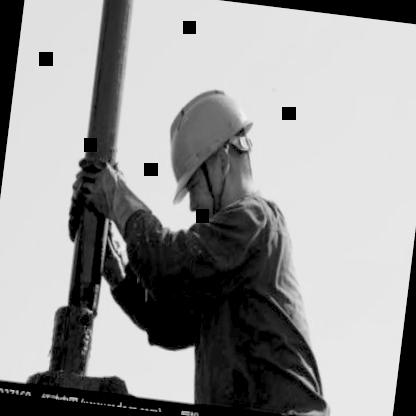helmet: (146, 59, 274, 236)
